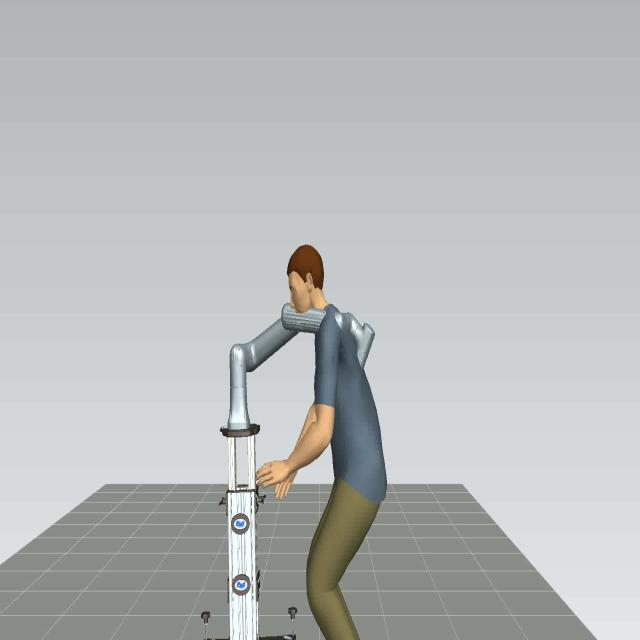human: (256, 236, 382, 640)
robot: (219, 280, 378, 446)
